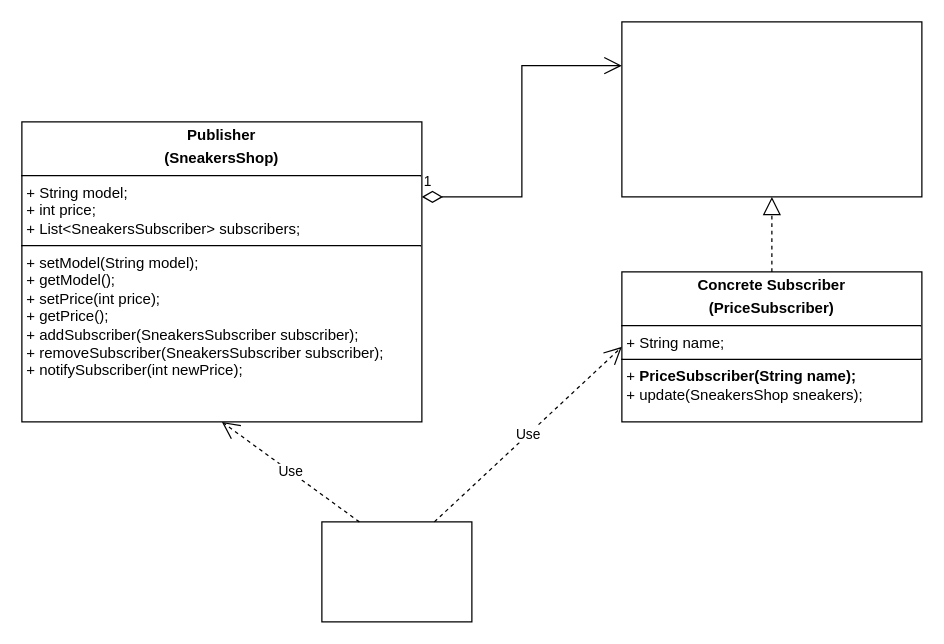
Image size: 944x644. Some labels were removed from this diagram. The shapes that lost their labels are listed below. From the top down, each one's centre as x and y in pixels, then its label:
At pixel 771 109: "<<Interface>> Subscriber (SneakersSubscriber) + update(SneakersShop sneakers);".
At pixel 396 571: "Client".
